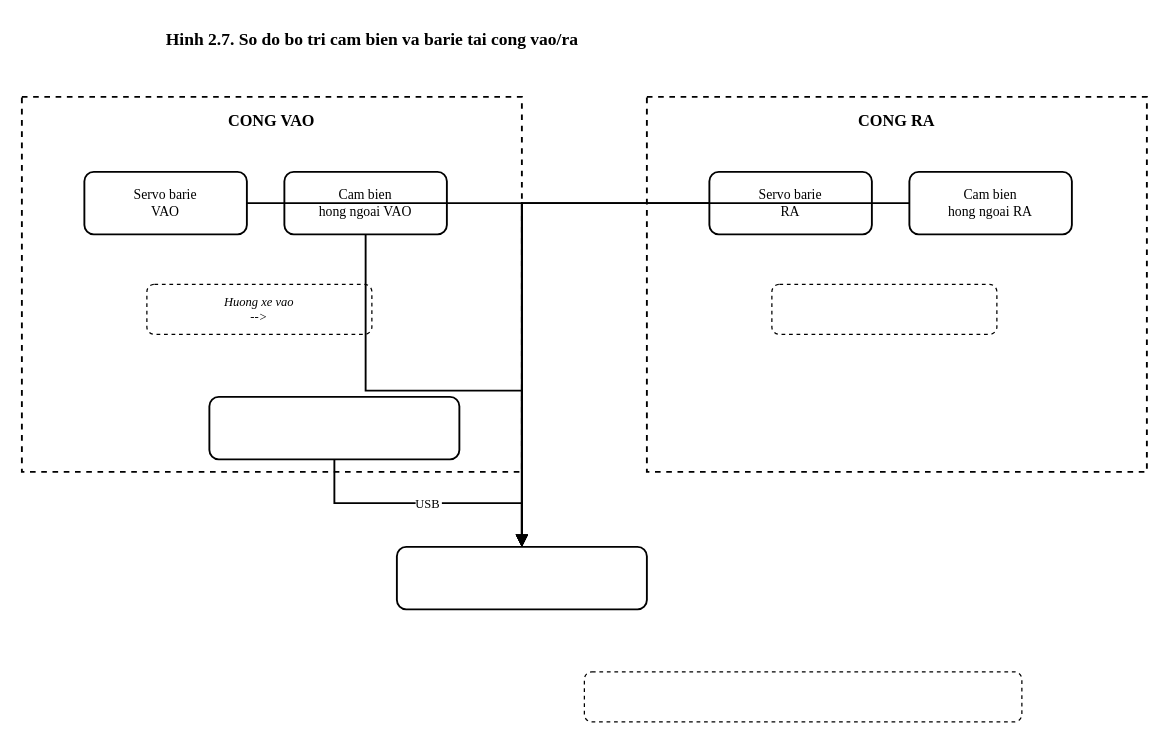
Some shapes in this 1170 by 744 pixel diagram are drawn without their labels. The centre of each missing label's shape, as x and y in pixels:
"Arduino Uno (dieu khien chung)" goes at point 521,577.
"Cam bien dat TRUOC barie de phat hien xe den truoc khi mo" goes at point 802,696.
"Camera (dat tai cong vao)" goes at point 334,427.
"Huong xe ra -->" goes at point 884,308.
